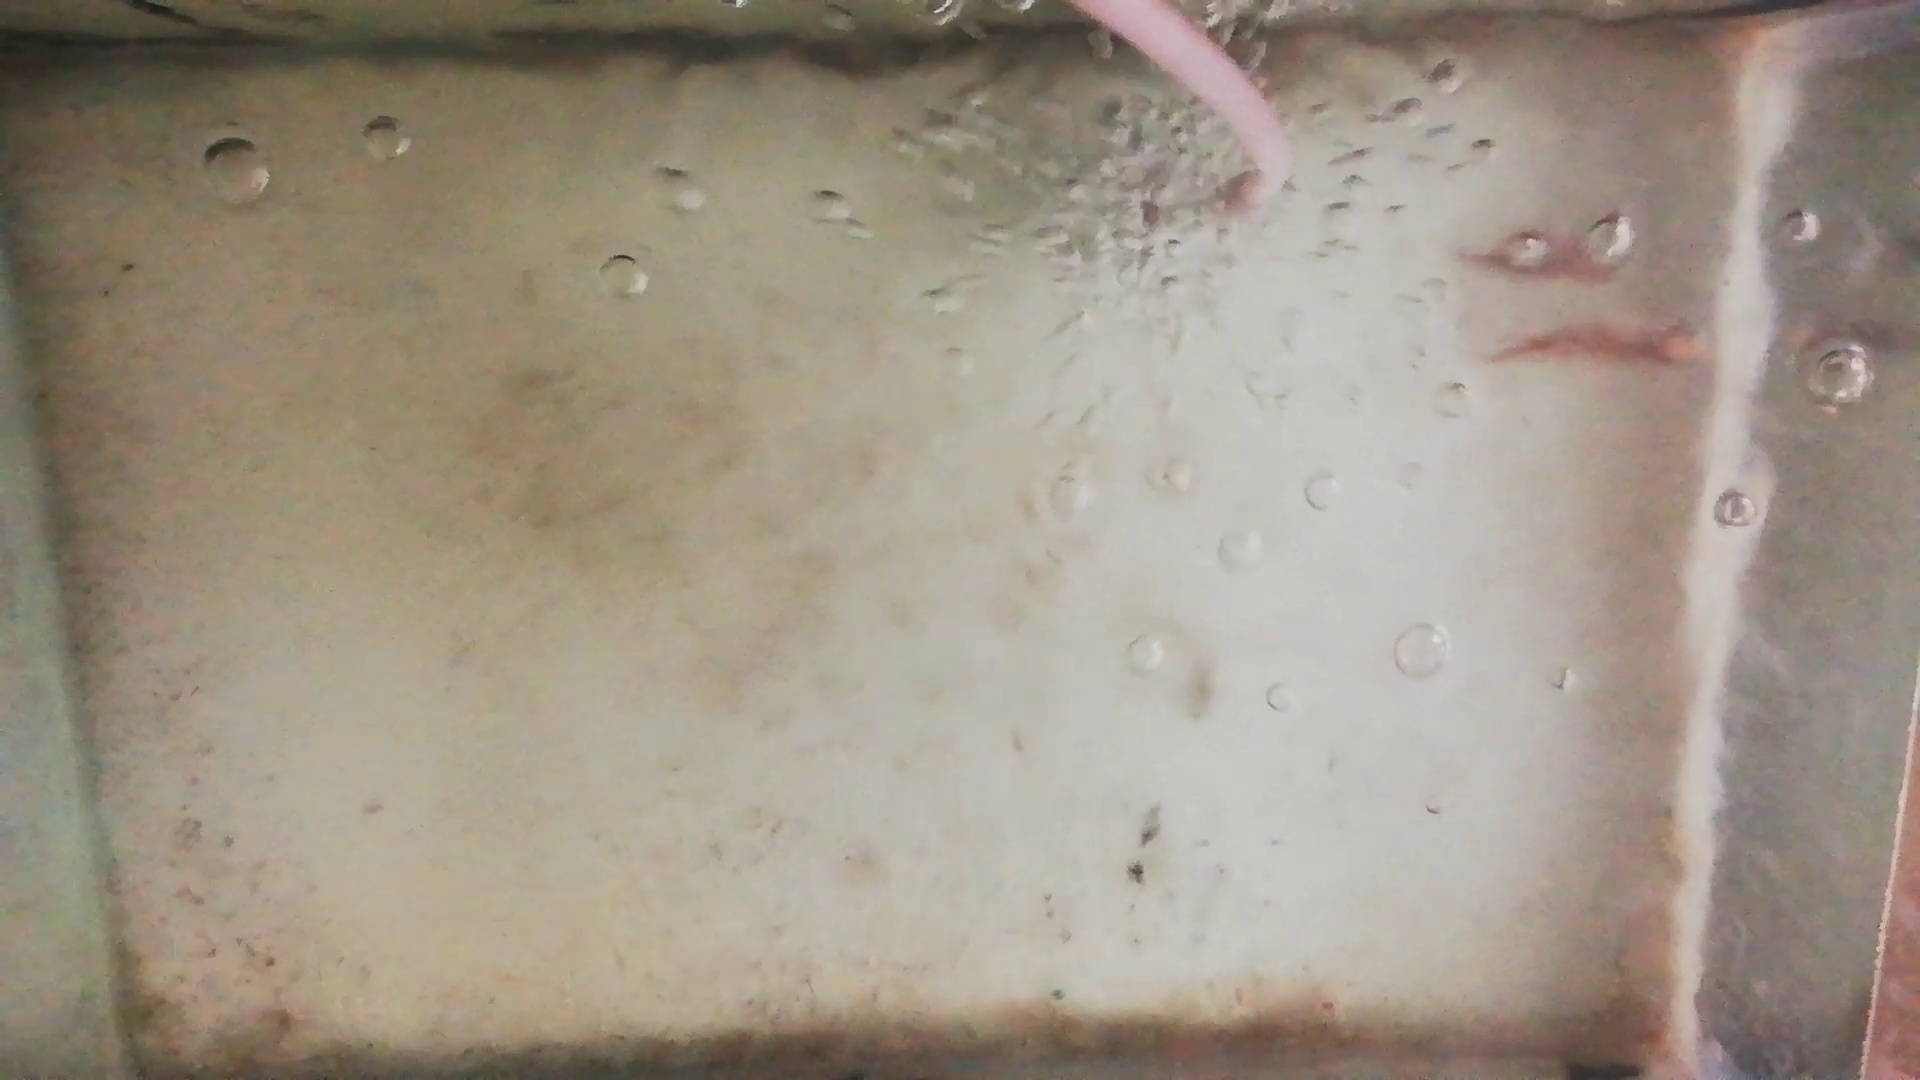fish: (1493, 315, 1704, 375), (1451, 232, 1633, 287)
